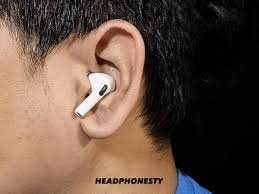earphone: (75, 19, 146, 139)
